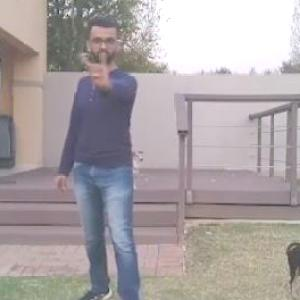takeoff-hand: (76, 43, 119, 96)
